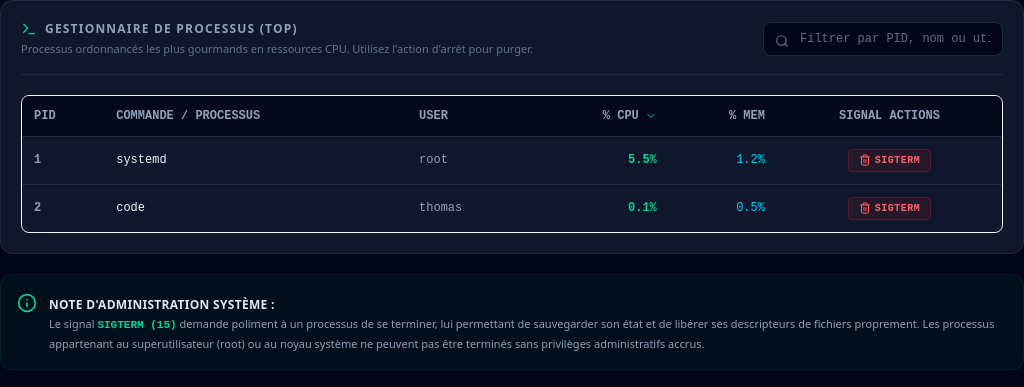
Test: ProcessesTable › affiche un message si aucun processus ne correspond
This screenshot has width=1024, height=387.
In the field with placeholder "Filtrer par PID, nom ou utilisateur...": (883, 39) left=763, top=22, right=1003, bottom=56, type "zzzz"
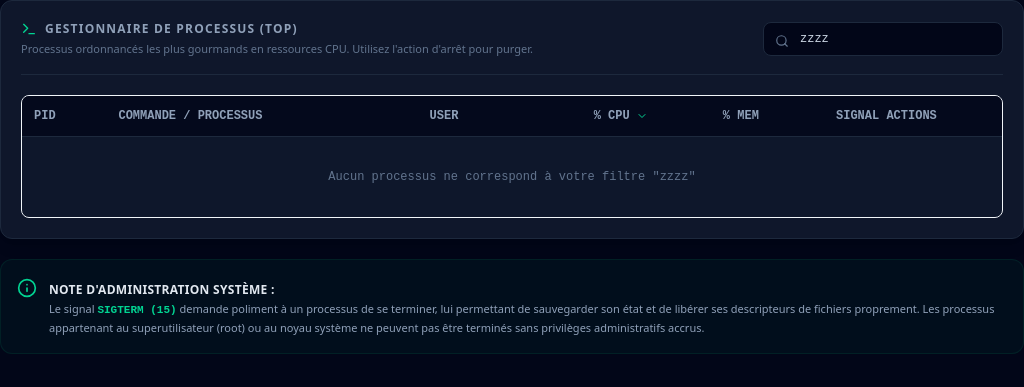
Expected: the text "Aucun processus ne correspond à votre filtre \"zzzz\"" is shown, left=22, top=136, right=1002, bottom=216
